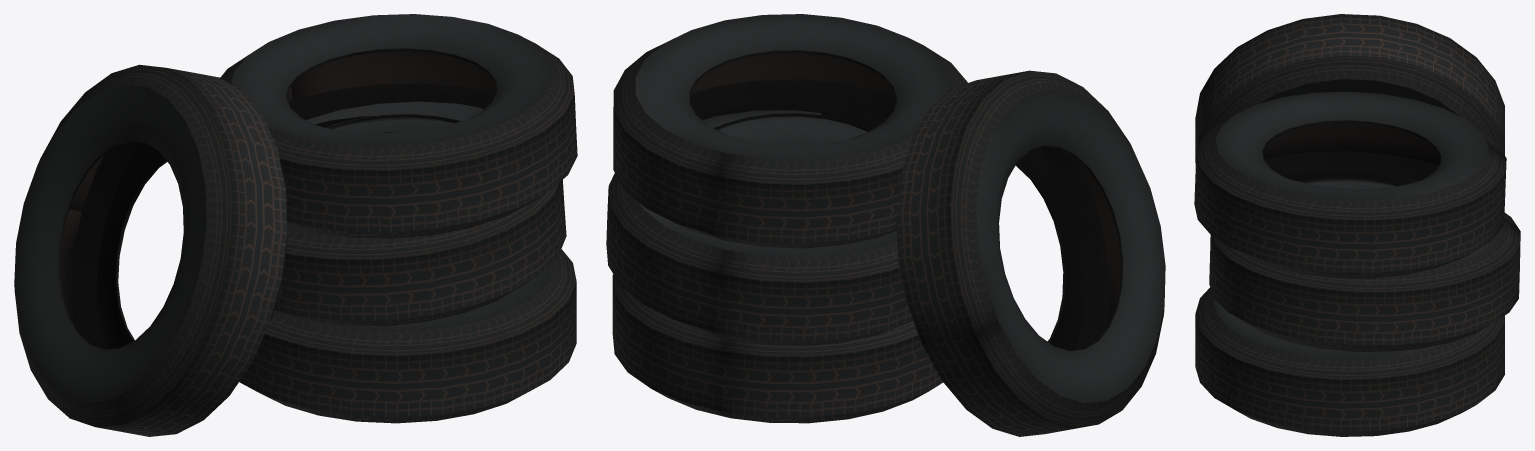
The model's file is tires.fbx.
3 renders of one model, left to right at view 1: azimuth 30°, elevation 25°; view 2: azimuth 150°, elevation 25°; view 3: azimuth 270°, elevation 25°, orthographic. The views are drawn at different scales.
Visible parts, largest first — view 1: SM_Tires_M_Tires_0.001, SM_Tires_M_Tires_0.002, SM_Tires_M_Tires_0.004, SM_Tires_M_Tires_0.003; view 2: SM_Tires_M_Tires_0.001, SM_Tires_M_Tires_0.002, SM_Tires_M_Tires_0.003, SM_Tires_M_Tires_0.004; view 3: SM_Tires_M_Tires_0.002, SM_Tires_M_Tires_0.004, SM_Tires_M_Tires_0.003, SM_Tires_M_Tires_0.001.
Boxes of the visible parts, x1=… form: SM_Tires_M_Tires_0.001: x1=14, y1=64, x2=287, y2=436; SM_Tires_M_Tires_0.002: x1=220, y1=14, x2=577, y2=238; SM_Tires_M_Tires_0.004: x1=239, y1=249, x2=576, y2=423; SM_Tires_M_Tires_0.003: x1=273, y1=101, x2=566, y2=326; SM_Tires_M_Tires_0.001: x1=896, y1=70, x2=1165, y2=436; SM_Tires_M_Tires_0.002: x1=613, y1=14, x2=967, y2=248; SM_Tires_M_Tires_0.003: x1=606, y1=110, x2=912, y2=346; SM_Tires_M_Tires_0.004: x1=612, y1=274, x2=943, y2=423; SM_Tires_M_Tires_0.002: x1=1194, y1=91, x2=1506, y2=278; SM_Tires_M_Tires_0.004: x1=1195, y1=287, x2=1504, y2=436; SM_Tires_M_Tires_0.003: x1=1209, y1=181, x2=1520, y2=351; SM_Tires_M_Tires_0.001: x1=1195, y1=14, x2=1504, y2=164.
Bounding box in the file's own units: 105 × 67.03 × 70.73.
Materials: 1 (1 with a texture image).
